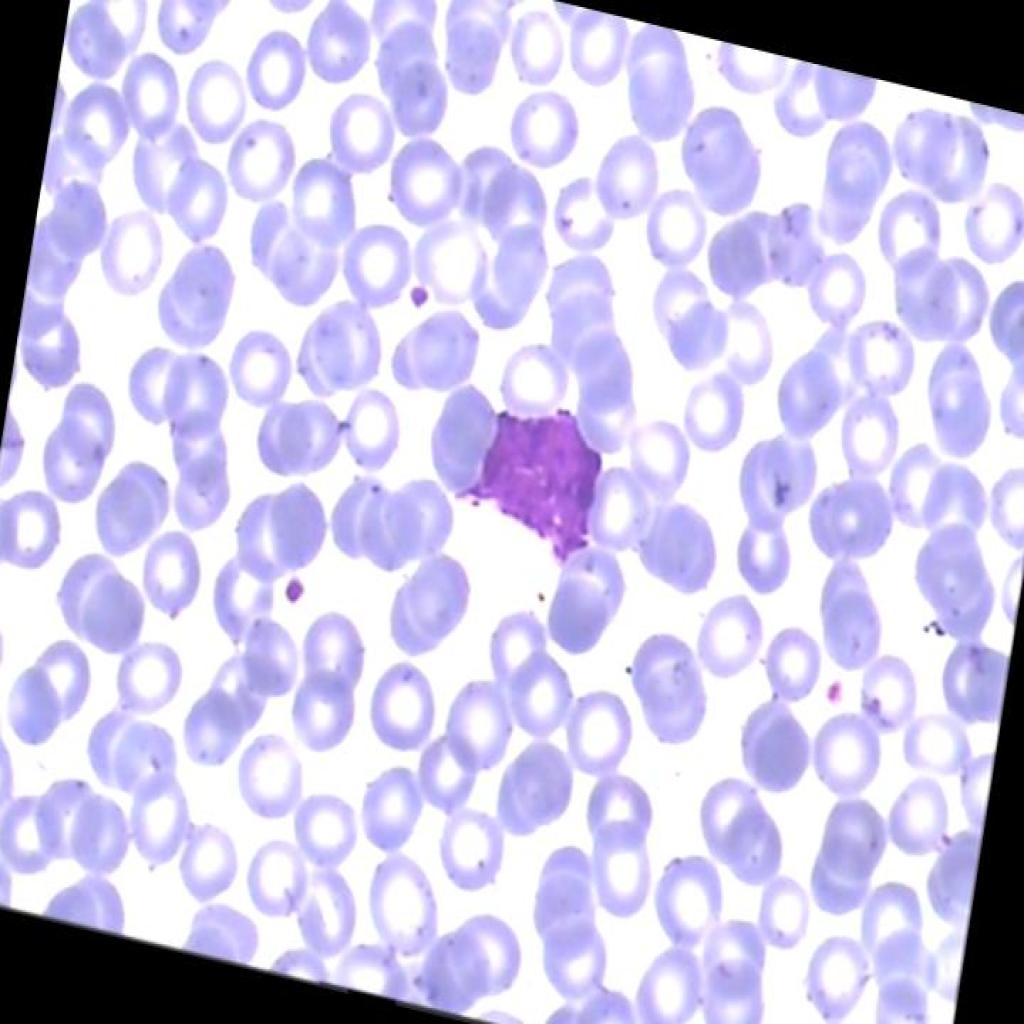Basofil: (465, 375, 617, 564)
Platelet: (390, 272, 428, 325), (819, 660, 852, 718), (280, 560, 313, 606)
